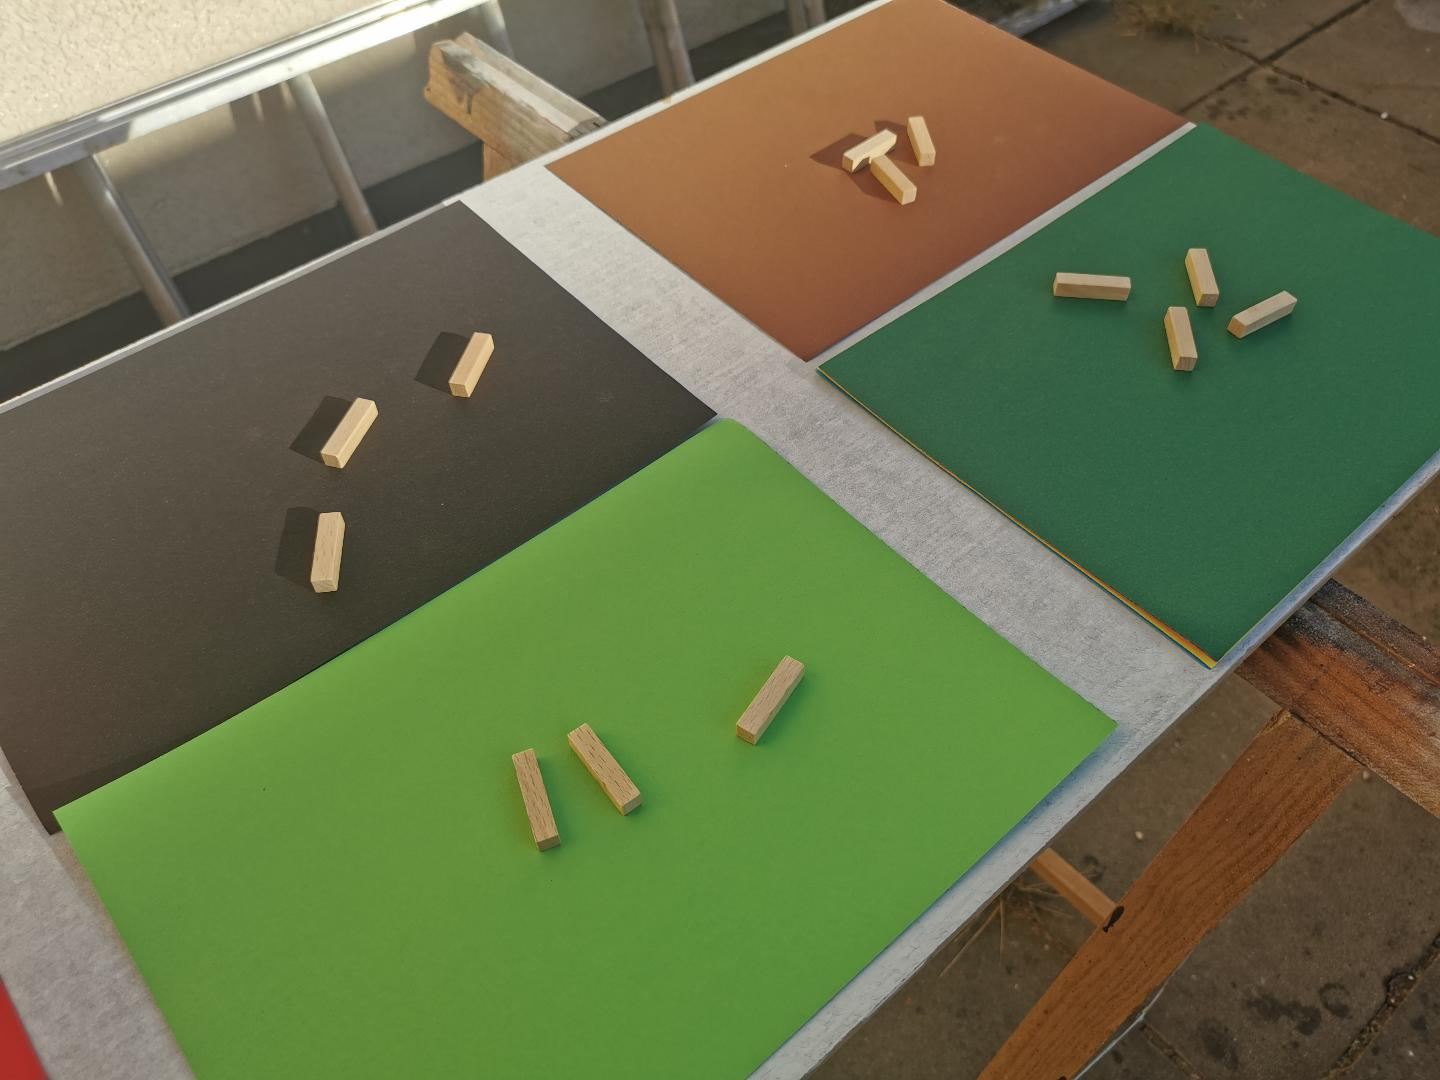jenga: (568, 726, 642, 816), (737, 656, 804, 745), (511, 748, 560, 852), (321, 399, 376, 467), (1229, 293, 1296, 338), (310, 512, 346, 593), (450, 332, 495, 397), (869, 154, 917, 205), (841, 129, 897, 171), (1184, 247, 1221, 306), (1164, 306, 1198, 371), (1054, 272, 1130, 301), (908, 116, 937, 166)
